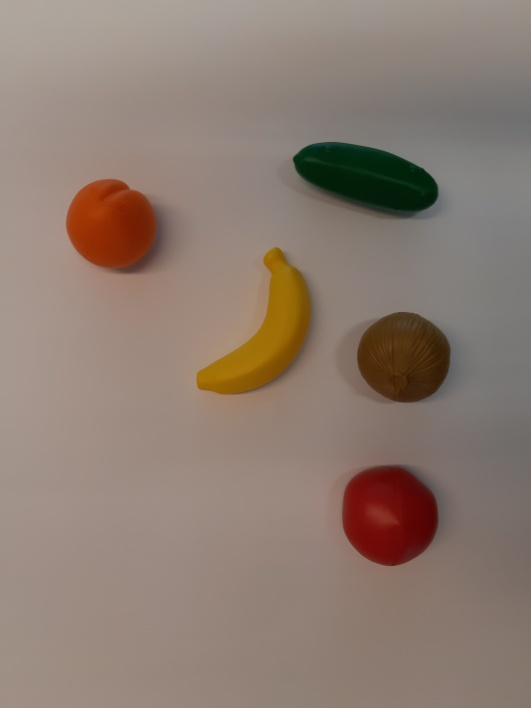apricot: (41, 159, 182, 289)
banana: (186, 236, 328, 416)
cucumber: (269, 120, 465, 229)
onion: (340, 301, 467, 418)
tomato: (314, 453, 463, 585)
